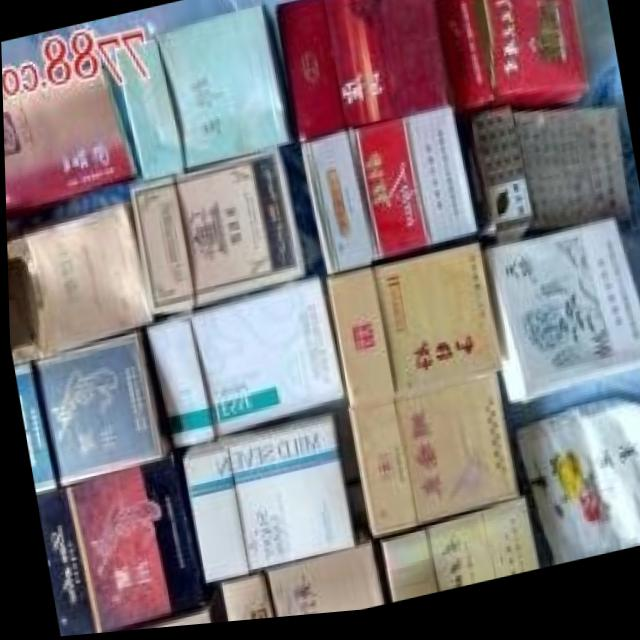box: (143, 282, 345, 451), (32, 453, 210, 637), (114, 10, 298, 187), (322, 248, 505, 420), (298, 112, 479, 284), (477, 228, 640, 414), (180, 418, 351, 590), (129, 154, 306, 318), (347, 383, 518, 548), (12, 328, 173, 493), (276, 0, 448, 150), (6, 203, 153, 367), (461, 115, 630, 256), (431, 0, 589, 140), (515, 406, 640, 575), (2, 70, 135, 213), (370, 506, 536, 610), (214, 552, 383, 626), (106, 591, 222, 634)
